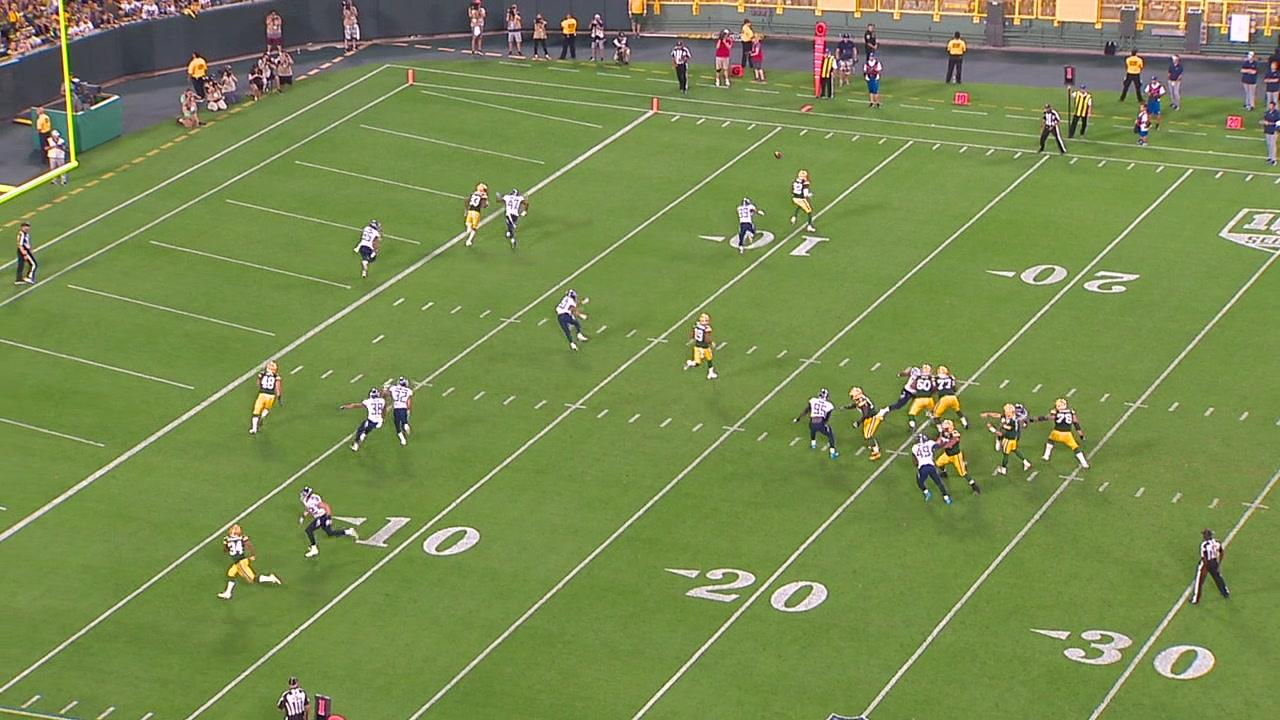defense: (292, 481, 362, 558), (548, 285, 595, 372), (903, 431, 947, 514), (798, 385, 840, 459), (347, 216, 390, 288), (343, 387, 386, 456), (497, 184, 538, 254), (385, 371, 419, 445), (880, 365, 926, 417), (730, 187, 765, 253), (993, 406, 1028, 451)
oline: (1036, 397, 1091, 469), (936, 421, 982, 499), (851, 386, 881, 462), (936, 363, 969, 431), (910, 364, 936, 430)
qb: (982, 405, 1035, 475)
ref: (1174, 524, 1242, 614), (6, 216, 50, 295), (274, 668, 321, 720), (1033, 99, 1071, 157)
skill: (220, 523, 285, 599), (242, 347, 286, 448), (681, 298, 728, 386), (447, 175, 494, 259), (790, 166, 820, 235)
